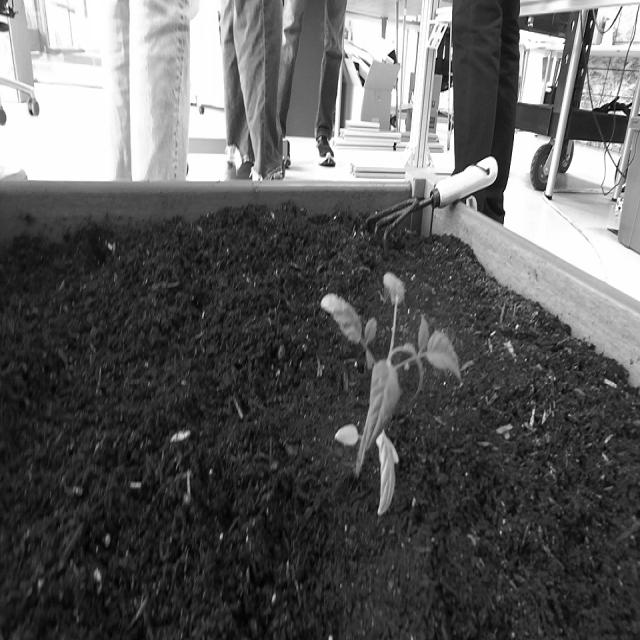Healthy: (319, 266, 466, 526)
